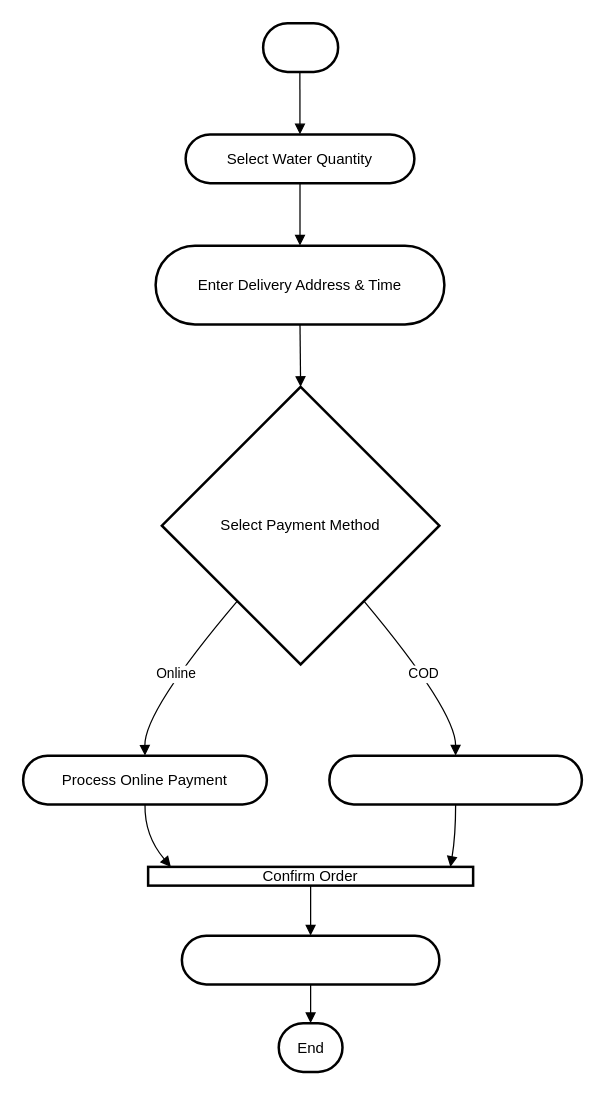
The diagram is 604 pixels wide and 1094 high, and some of its shapes have lost their labels. The centre of each missing label's shape, as x and y in pixels:
Mark as Cash on Delivery: point 455,779
Show Order Confirmation: point 310,959
Start: point 300,46
